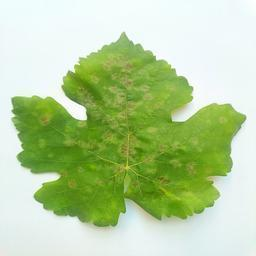Powdery-Mildew: (101, 50, 139, 93), (104, 133, 145, 169), (158, 128, 201, 157), (108, 95, 139, 125), (75, 82, 99, 110), (201, 111, 231, 133), (140, 84, 157, 101), (38, 110, 55, 126), (57, 134, 73, 151), (156, 173, 173, 189), (65, 178, 81, 194)
